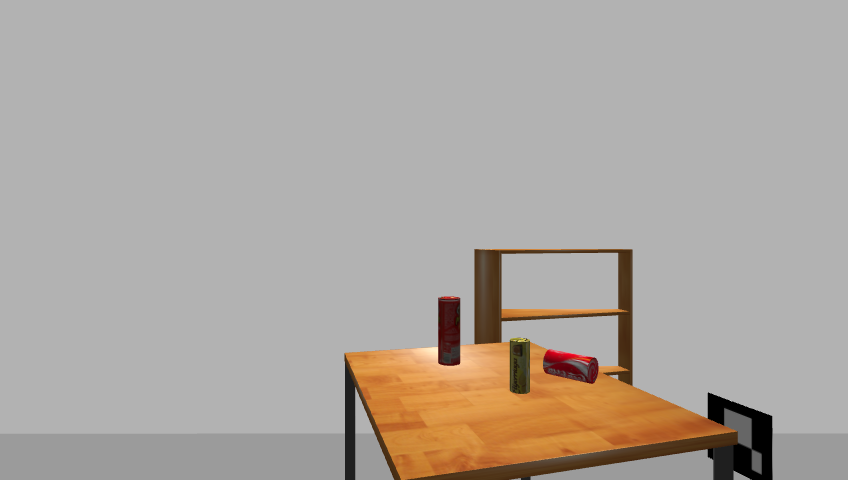aruco marker: (701, 391, 779, 479)
biscuits pack: (508, 338, 532, 395)
bookshelf: (469, 245, 640, 408)
coke can: (541, 349, 601, 385)
dinner table: (339, 344, 747, 479)
pringles can: (435, 295, 463, 368)
